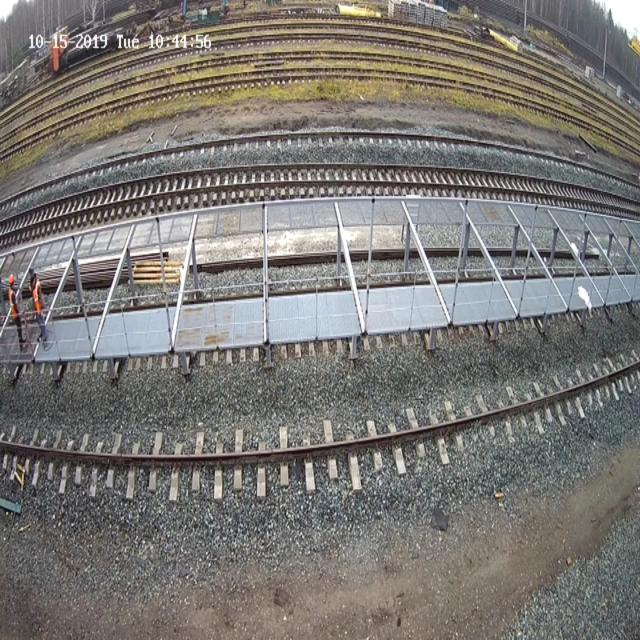Helmet: (8, 274, 14, 284)
Person: (7, 274, 26, 343), (29, 271, 47, 342)
